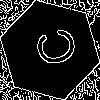C: (25, 25, 79, 72)
